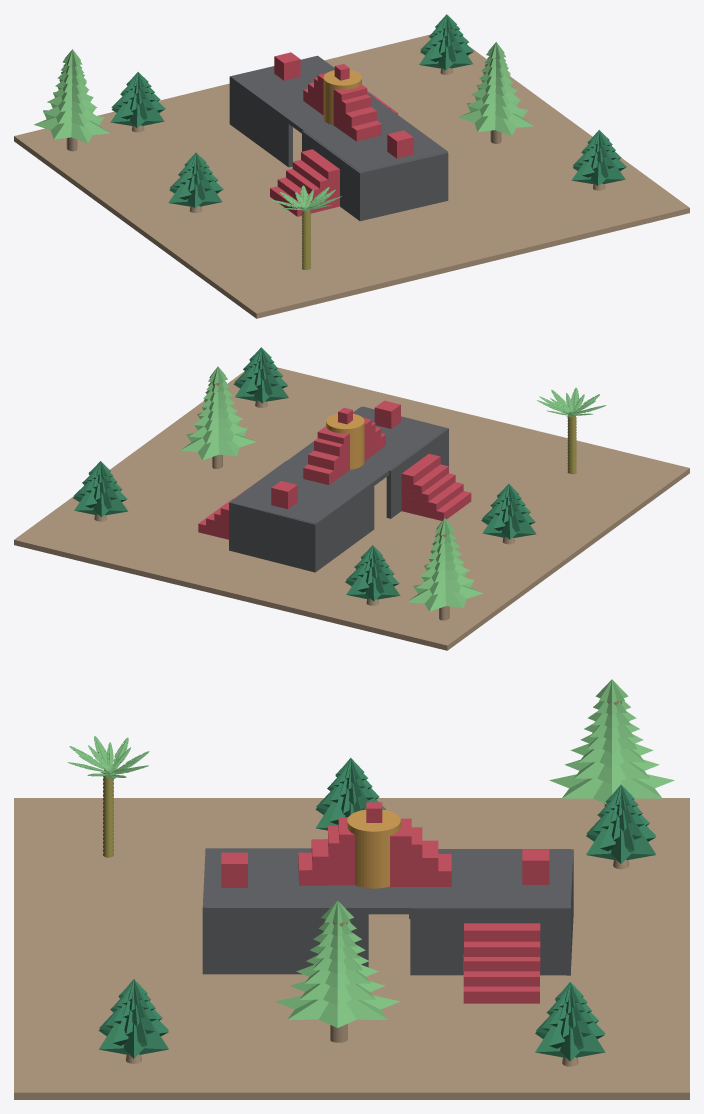
The model's file is map.glb.
3 views of the same model, one above another, from view 1: azimuth 30°, elevation 25°; view 2: azimuth 150°, elevation 25°; view 3: azimuth 270°, elevation 25° (orthographic). The views are drawn at different scales.
Visible parts, largest first — view 1: Mesh_Mesh_head_geo.001_lambert2SG.001; view 2: Mesh_Mesh_head_geo.001_lambert2SG.001; view 3: Mesh_Mesh_head_geo.001_lambert2SG.001.
Part boxes in pixels (bbox=[...]): Mesh_Mesh_head_geo.001_lambert2SG.001: bbox=[14, 14, 689, 318]; Mesh_Mesh_head_geo.001_lambert2SG.001: bbox=[14, 347, 689, 650]; Mesh_Mesh_head_geo.001_lambert2SG.001: bbox=[14, 679, 689, 1099].
Bounding box in the file's own units: 0.521 × 0.121 × 0.505.
